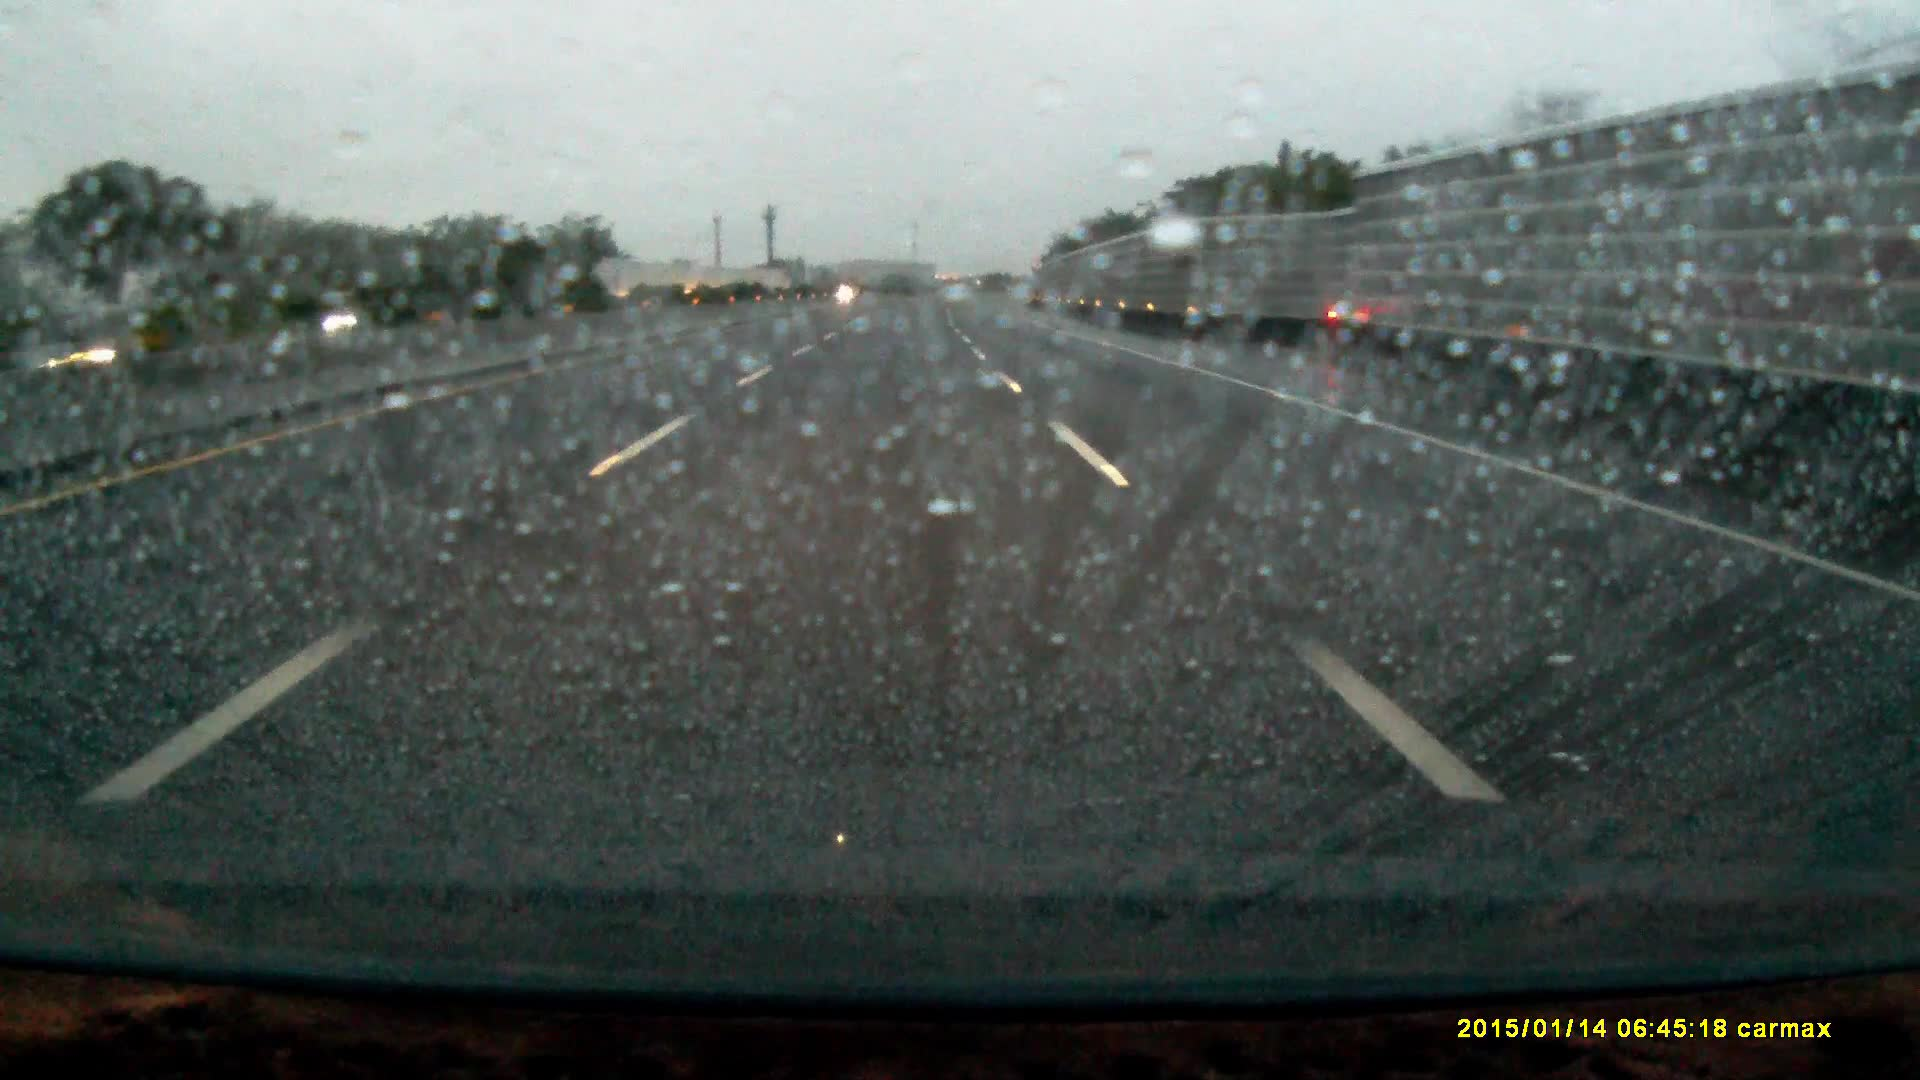vehicle: (255, 297, 361, 344)
